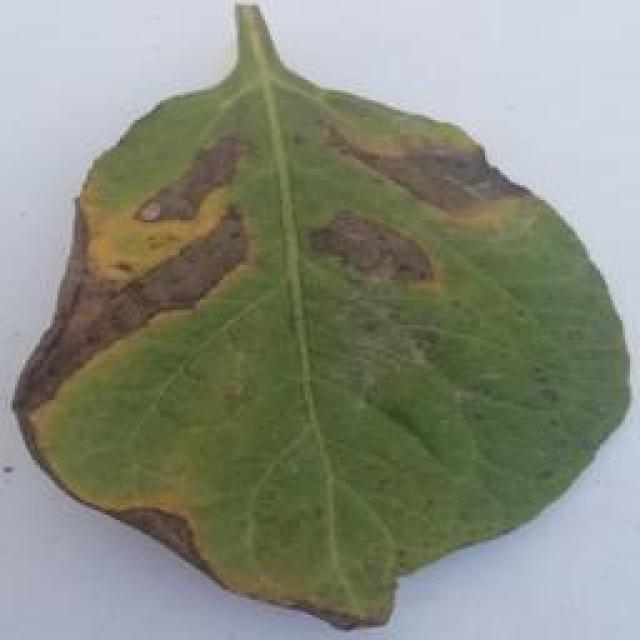Potato_Late_Blight: (15, 4, 620, 630)
